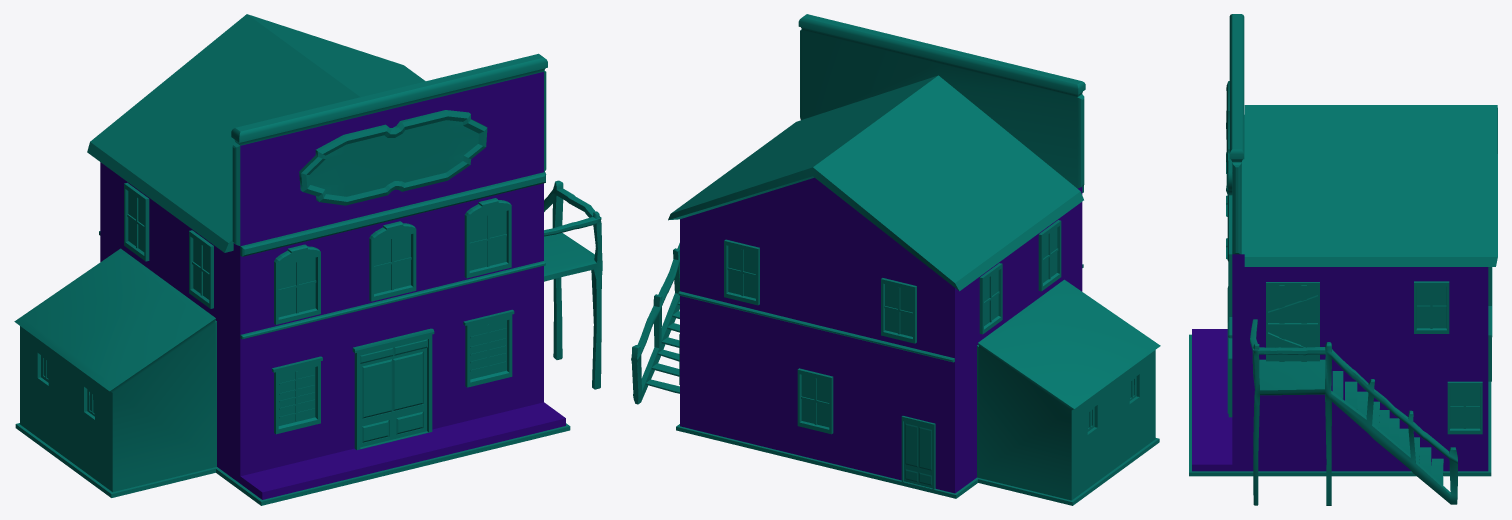
File: Funeral_Parlor_2MATT_FINAL_FBX.FBX
The picture shows the model from 3 angles, left to right: view 1: azimuth 30°, elevation 25°; view 2: azimuth 150°, elevation 25°; view 3: azimuth 270°, elevation 25°; orthographic projection. The views are drawn at different scales.
Visible parts, largest first — view 1: Funeral_Parlour, Main Walls; view 2: Funeral_Parlour, Main Walls; view 3: Funeral_Parlour, Main Walls.
Boxes of the visible parts, x1,y1,x2,y2 form: Funeral_Parlour: (14,14,602,505); Main Walls: (100,72,565,499); Funeral_Parlour: (631,14,1160,505); Main Walls: (680,177,1082,493); Funeral_Parlour: (1189,14,1497,505); Main Walls: (1192,254,1488,471).
Size of the model in its own units: 1036 by 726 by 624.
